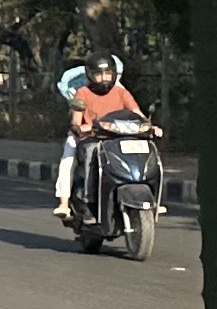BikeWithRider: (47, 45, 172, 264)
Helmet: (80, 48, 122, 96)
